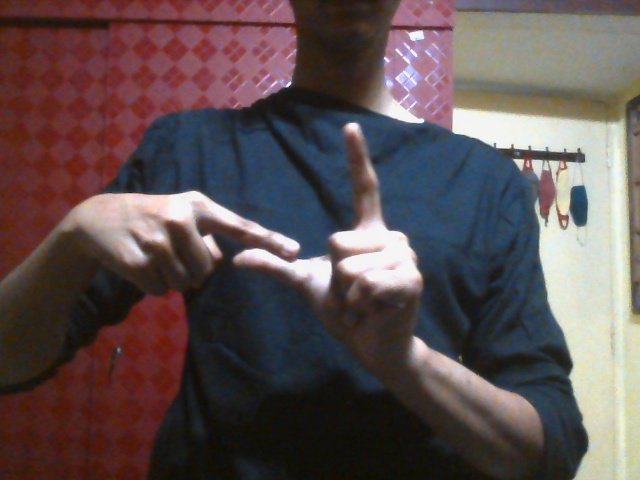J: (82, 120, 421, 346)
